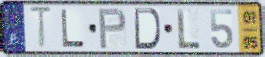5: (209, 9, 235, 51)
D: (133, 7, 162, 51)
L: (176, 7, 202, 51), (59, 8, 86, 48)
P: (97, 7, 128, 51)
T: (28, 6, 54, 52)
